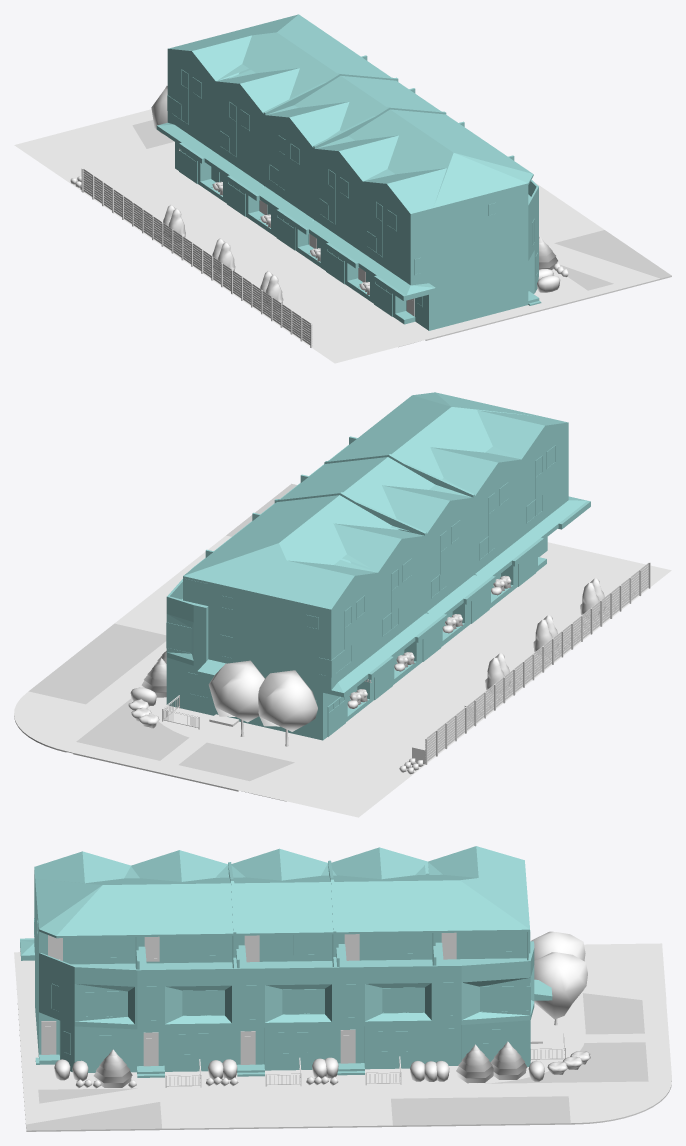
The model's file is windsor_cyan_locationTrue.glb.
3 views of the same model, one above another, from view 1: azimuth 30°, elevation 25°; view 2: azimuth 150°, elevation 25°; view 3: azimuth 270°, elevation 25° (orthographic). The views are drawn at different scales.
Visible parts, largest first — view 1: Geom3D_ (×9), Geom3D_Component#75 (×5), Geom3D (×2), Geom3D_Component#76, Geom3D_Component#79, Geom3D_wood board#2; view 2: Geom3D_ (×11), Geom3D_Component#75 (×5), Geom3D (×2), Geom3D_Deciduous Tree 030: Elm (×2), Geom3D_Component#76, Geom3D_Component#79, Geom3D_Coniferous Tree 002: Fir; view 3: Geom3D_ (×18), Geom3D (×2), Geom3D_Component#75 (×5), Geom3D_Deciduous Tree 030: Elm (×2), Geom3D_Coniferous Tree 002: Fir (×3), Geom3D_Component#79, Geom3D_Component#76, Geom3D_SITE CONTEXT#5.
Part boxes in pixels (x1,y1,x2,y2): Geom3D_ (×9): (14, 14, 671, 363); Geom3D_Component#75 (×5): (167, 32, 471, 215); Geom3D (×2): (132, 120, 671, 290); Geom3D_Component#76: (263, 73, 398, 234); Geom3D_Component#79: (313, 106, 446, 268); Geom3D_wood board#2: (83, 168, 312, 325); Geom3D_ (×11): (14, 392, 671, 817); Geom3D_Component#75 (×5): (260, 410, 568, 611); Geom3D (×2): (28, 483, 296, 781); Geom3D_Deciduous Tree 030: Elm (×2): (208, 660, 317, 746); Geom3D_Component#76: (274, 492, 426, 666); Geom3D_Component#79: (324, 454, 474, 627); Geom3D_Coniferous Tree 002: Fir: (141, 658, 166, 697); Geom3D_ (×18): (14, 872, 671, 1131); Geom3D (×2): (26, 993, 648, 1130); Geom3D_Component#75 (×5): (34, 846, 527, 893); Geom3D_Deciduous Tree 030: Elm (×2): (531, 931, 587, 1025); Geom3D_Coniferous Tree 002: Fir (×3): (93, 1041, 527, 1087); Geom3D_Component#79: (228, 862, 237, 1064); Geom3D_Component#76: (328, 860, 337, 1059); Geom3D_SITE CONTEXT#5: (584, 1033, 645, 1042).
Size of the model in its own units: 29.23 by 11.28 by 43.44.
